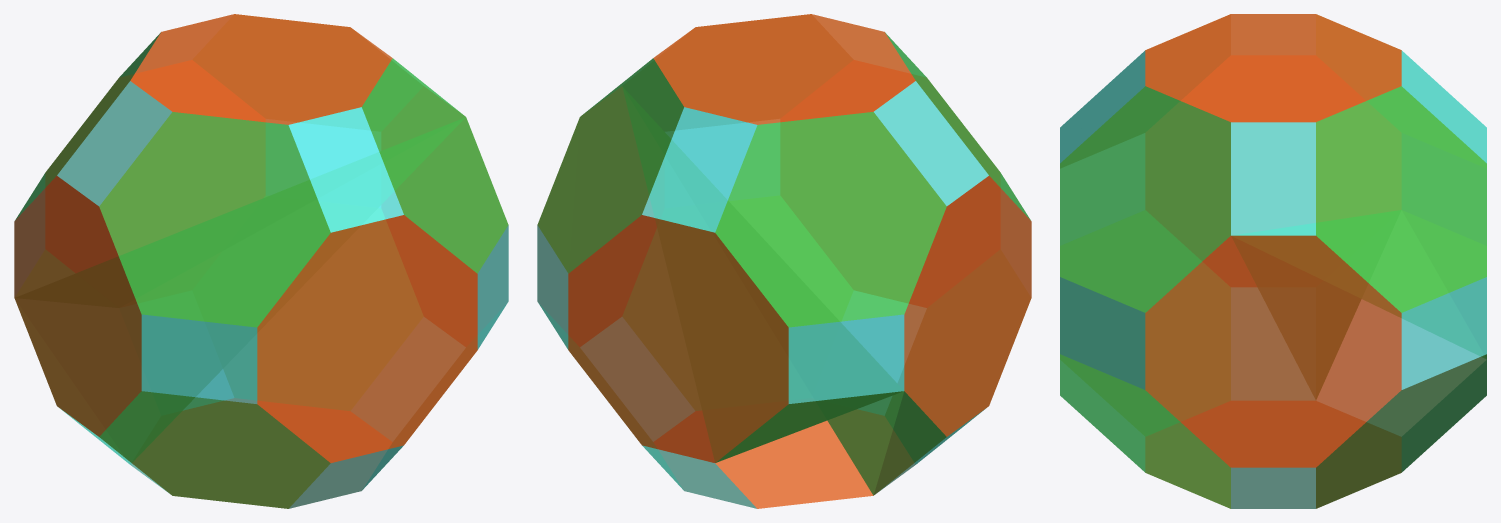
File: EscherDual.obj
3 renders of one model, left to right at view 1: azimuth 30°, elevation 25°; view 2: azimuth 150°, elevation 25°; view 3: azimuth 270°, elevation 25°, orthographic.
Bounding box in the file's own units: 1.67 × 1.67 × 1.67.
